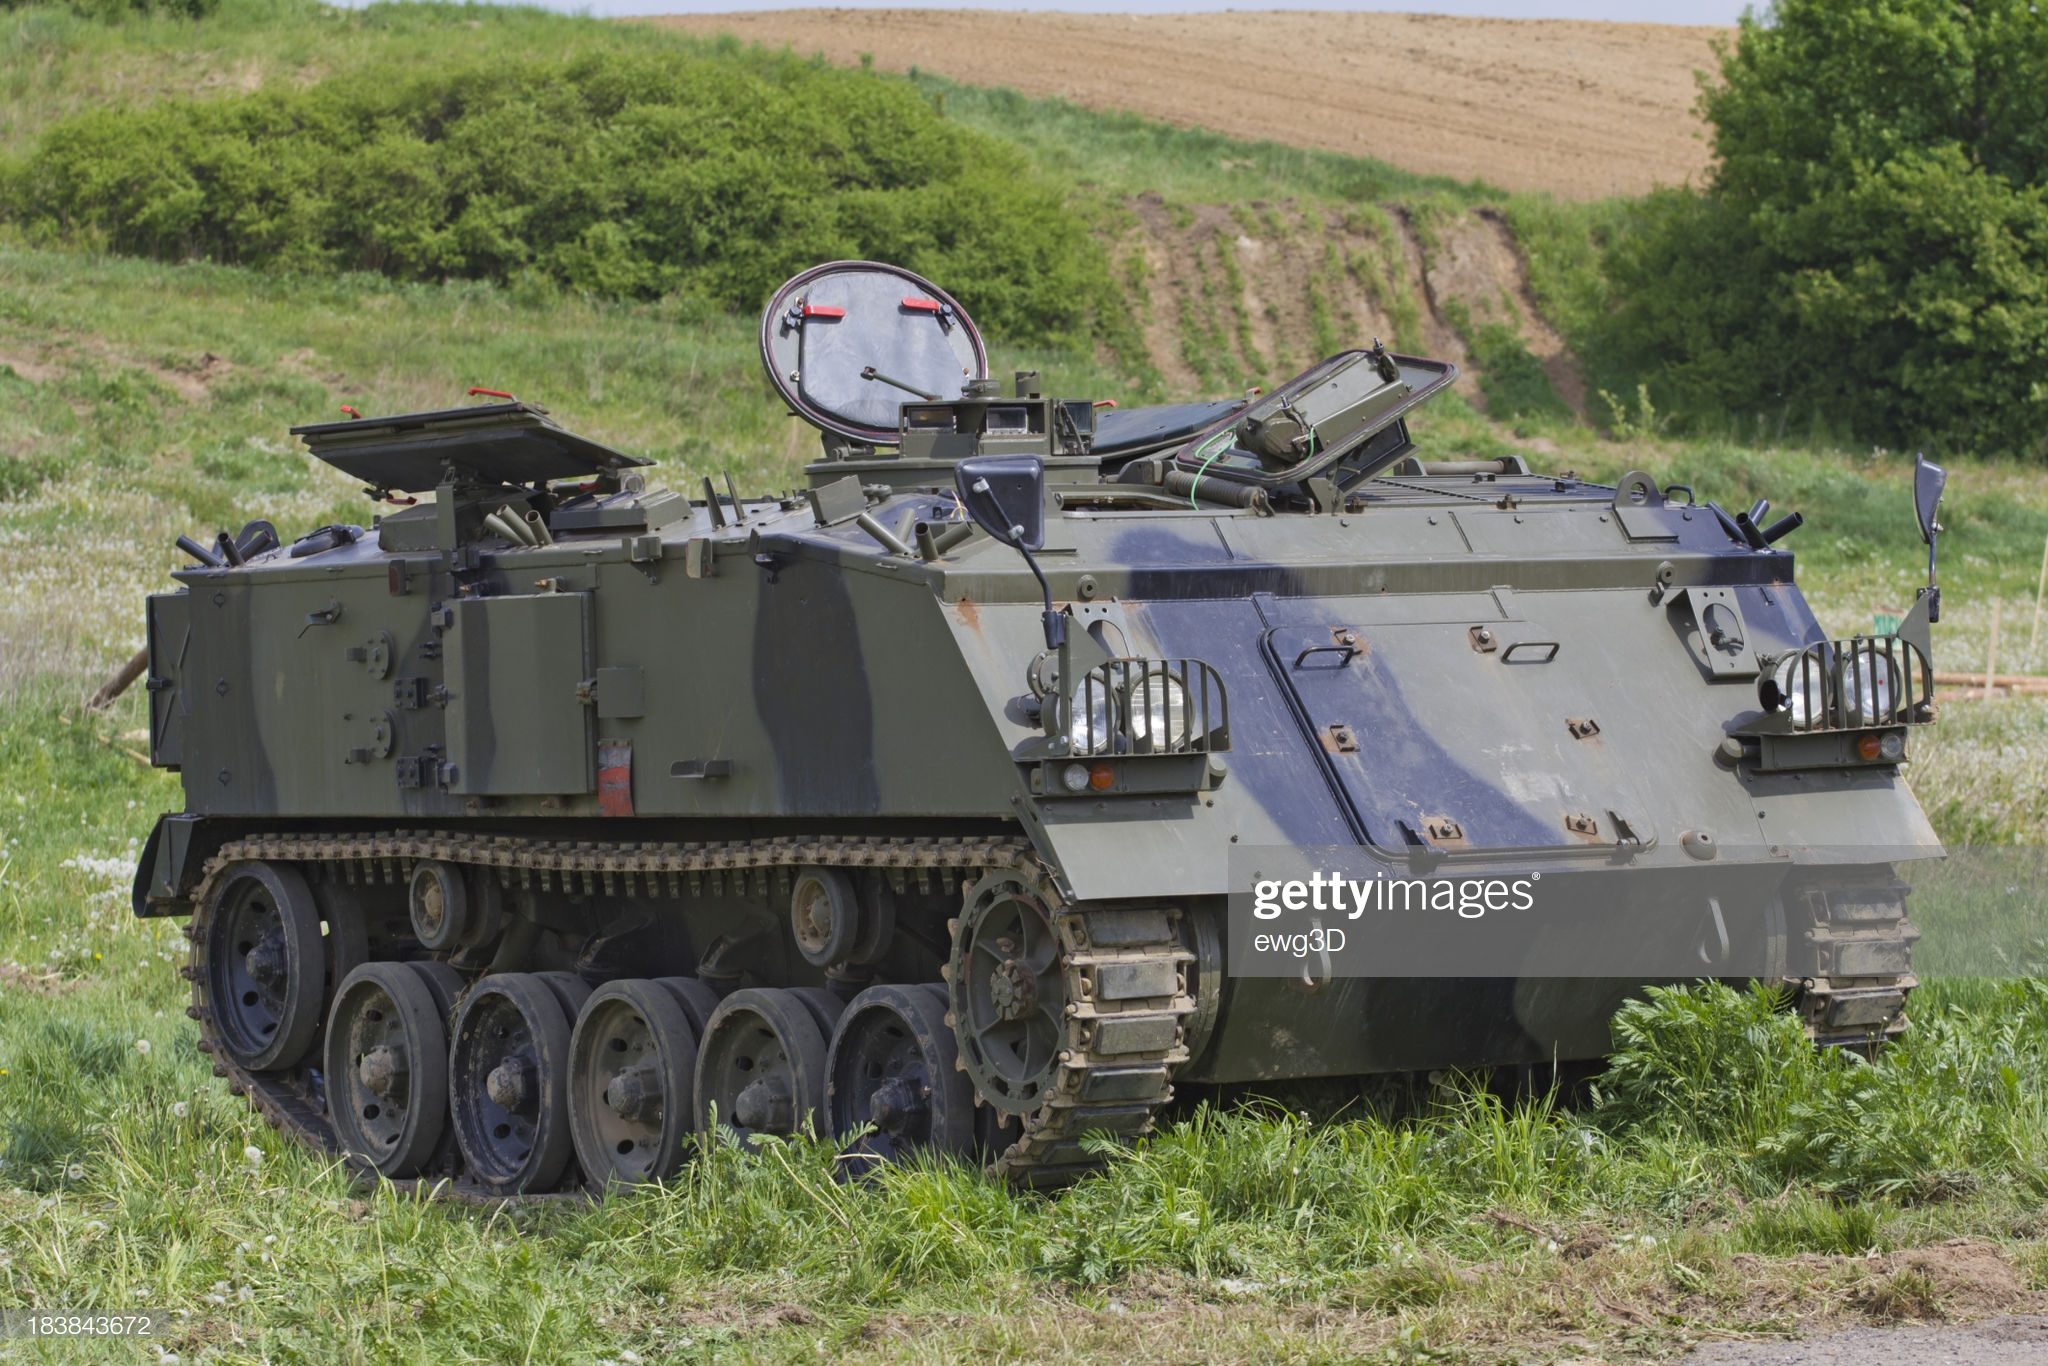vtt: (154, 428, 1897, 1165)
